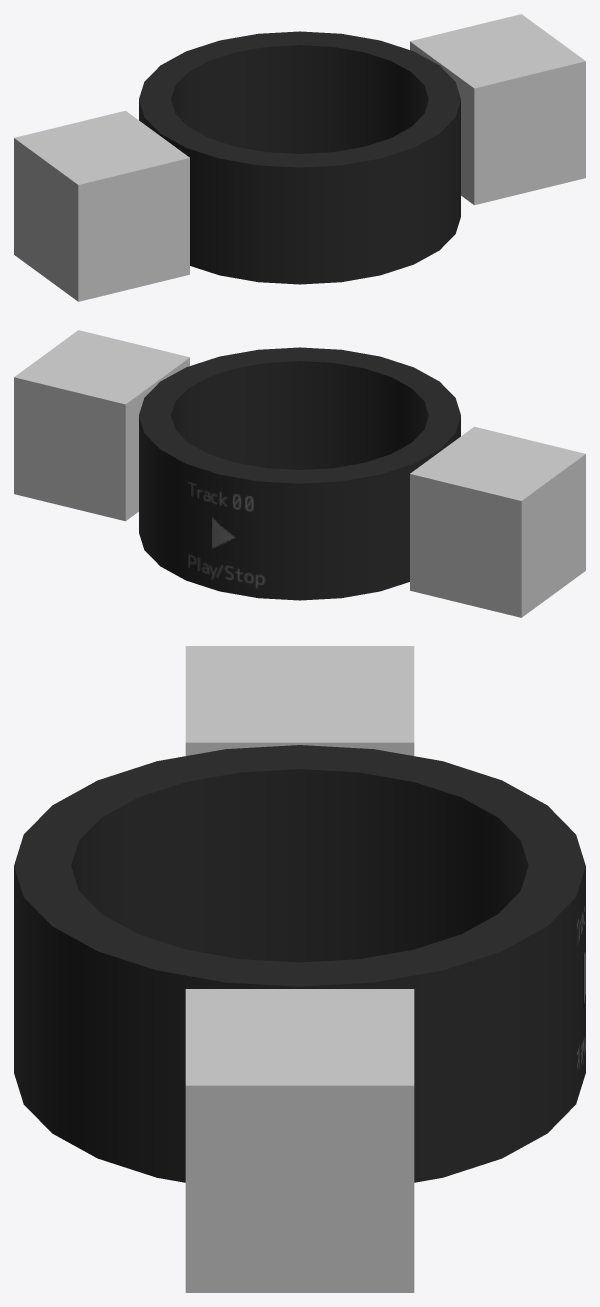
The model's file is cytanb-anim-cam.fbx.
3 views of the same model, one above another, from view 1: azimuth 30°, elevation 25°; view 2: azimuth 150°, elevation 25°; view 3: azimuth 270°, elevation 25° (orthographic). The views are drawn at different scales.
Visible parts, largest first — view 1: anim-cam-switch, anim-cam-next-switch, anim-cam-prev-switch; view 2: anim-cam-switch, anim-cam-next-switch, anim-cam-prev-switch; view 3: anim-cam-switch, anim-cam-prev-switch, anim-cam-next-switch.
Boxes of the visible parts, x1,y1,x2,y2 form: anim-cam-switch: [139, 31, 460, 284]; anim-cam-next-switch: [14, 110, 189, 301]; anim-cam-prev-switch: [410, 14, 585, 205]; anim-cam-switch: [139, 347, 460, 600]; anim-cam-next-switch: [410, 426, 585, 617]; anim-cam-prev-switch: [14, 330, 189, 521]; anim-cam-switch: [14, 745, 585, 1182]; anim-cam-prev-switch: [185, 989, 414, 1292]; anim-cam-next-switch: [185, 646, 414, 755].
Size of the model in its own units: 0.3 by 0.066 by 0.165.
